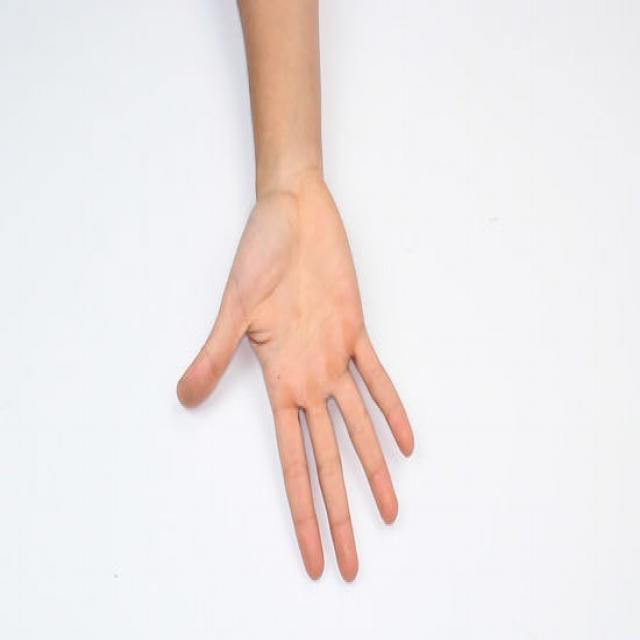bare_hand: (175, 168, 415, 584)
